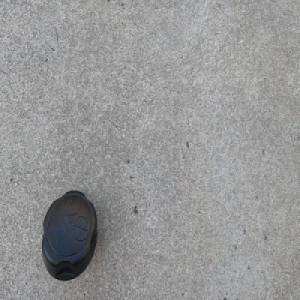FuelCap: (41, 187, 98, 282)
